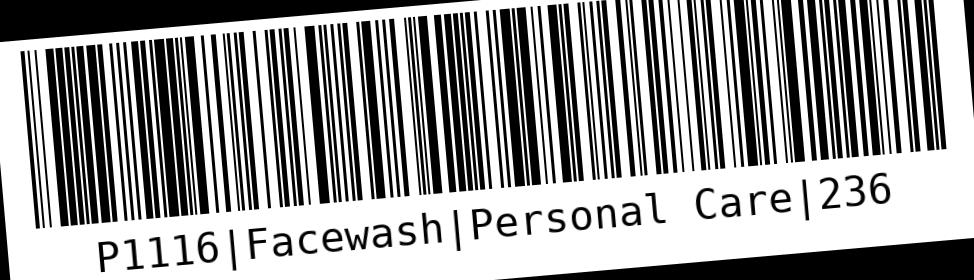milk: (8, 0, 973, 279)
